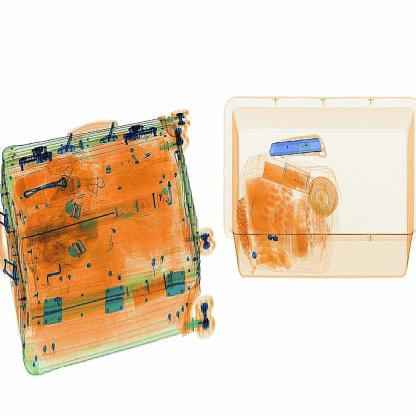pliers: (270, 136, 329, 162)
